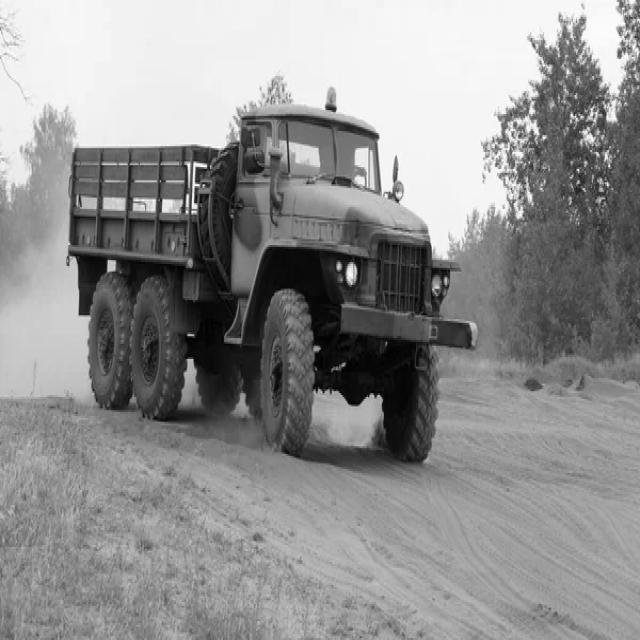Truck: (68, 95, 479, 461)
